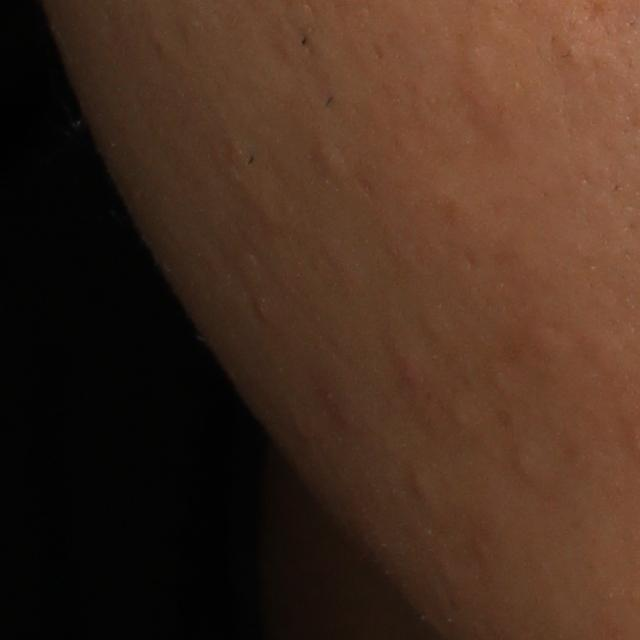comedo: (313, 131, 349, 180), (444, 393, 475, 433), (509, 451, 542, 484), (410, 470, 435, 507)
papule: (398, 359, 425, 393)
